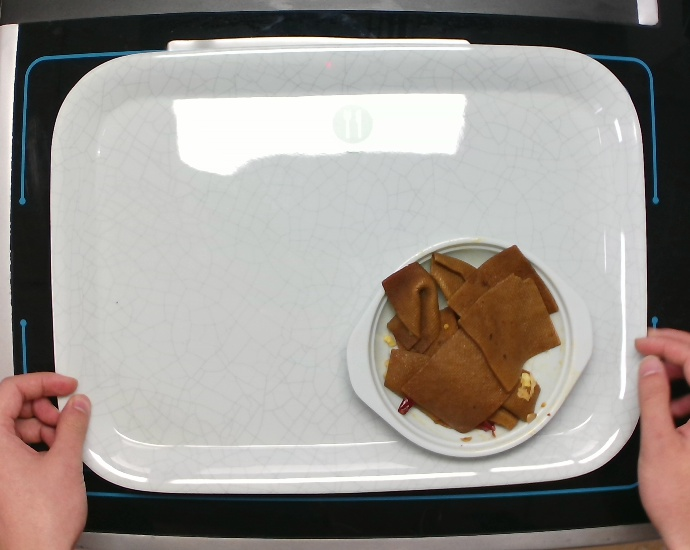JYsf-Shuang_Er_Pan: (343, 234, 596, 459)
